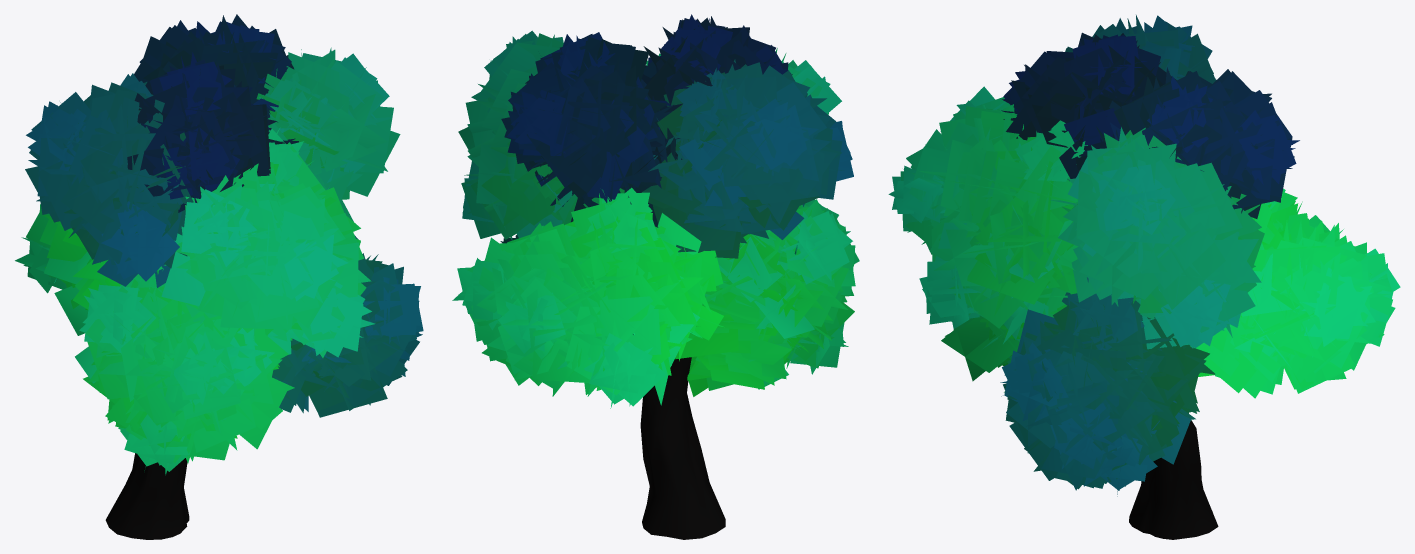
Rendered from OakTree_LOD0.fbx.
The picture shows the model from 3 angles, left to right: view 1: azimuth 30°, elevation 25°; view 2: azimuth 150°, elevation 25°; view 3: azimuth 270°, elevation 25°; orthographic projection. The views are drawn at different scales.
Visible parts, largest first — view 1: Tree_0Shape; view 2: Tree_0Shape; view 3: Tree_0Shape.
Boxes of the visible parts, box(x1,y1,x2,y2) form: Tree_0Shape: box(15, 14, 423, 539); Tree_0Shape: box(452, 14, 859, 539); Tree_0Shape: box(888, 15, 1400, 539).
Bounding box in the file's own units: 342 × 446 × 418.
